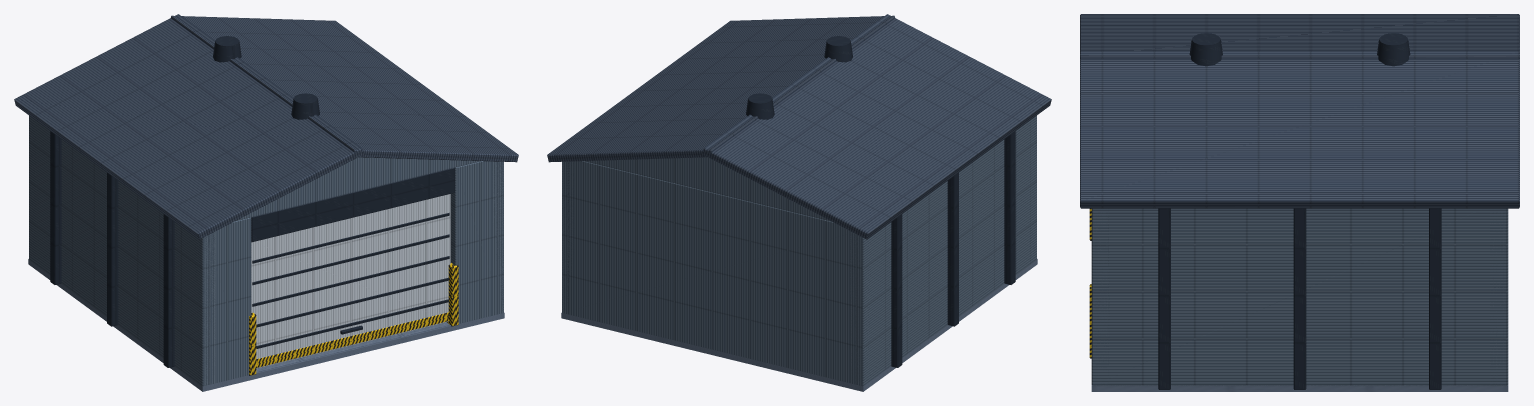
File: garage_hangar.glb
3 renders of one model, left to right at view 1: azimuth 30°, elevation 25°; view 2: azimuth 150°, elevation 25°; view 3: azimuth 270°, elevation 25°, orthographic. The views are drawn at different scales.
Visible parts, largest first — view 1: garage_hangar, garage_door_pivot; view 2: garage_hangar; view 3: garage_hangar.
Part boxes in pixels (x1,y1,x2,y2): garage_hangar: (14,14,518,391); garage_door_pivot: (251,194,450,368); garage_hangar: (547,14,1051,391); garage_hangar: (1080,14,1519,391).
Bounding box in the file's own units: 8.52 × 5.61 × 8.45.
Materials: 6 (6 with a texture image).
